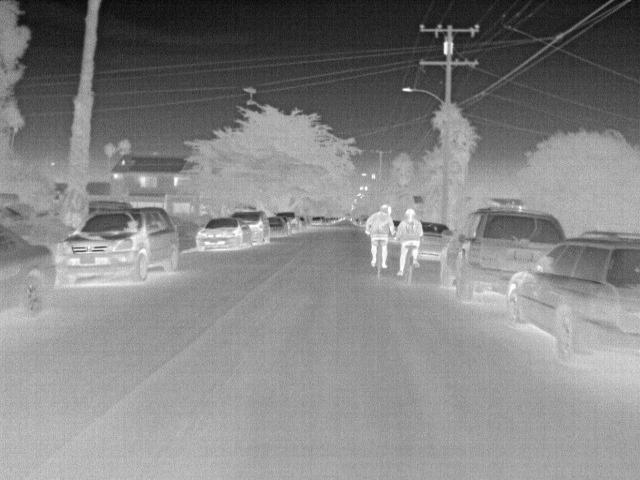car: (506, 234, 637, 368), (434, 205, 567, 301), (61, 207, 177, 286), (0, 226, 60, 322), (193, 216, 251, 251), (415, 222, 454, 266), (228, 213, 267, 245), (261, 219, 291, 239), (274, 211, 301, 233), (308, 215, 324, 226)
person: (364, 205, 398, 269), (398, 208, 422, 275)
